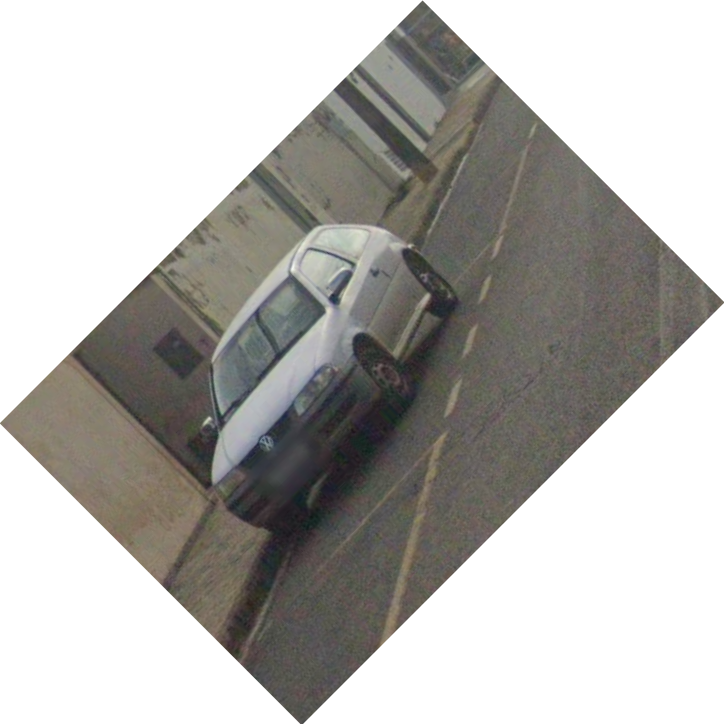car: (196, 216, 463, 545)
